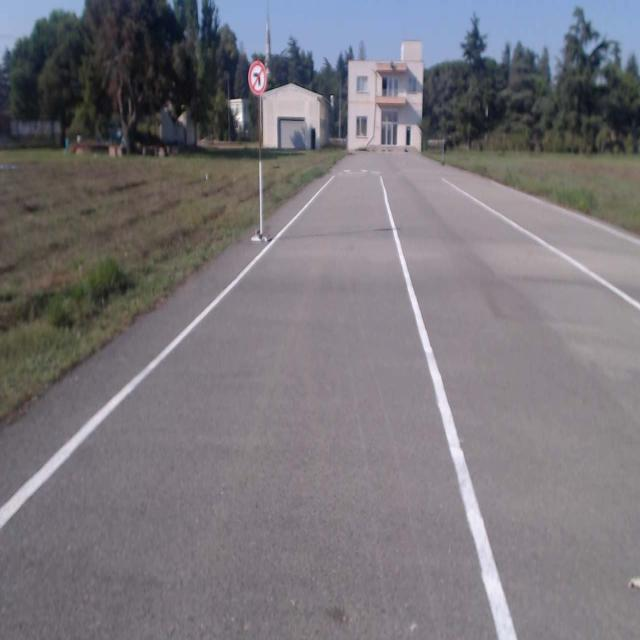soladonulmez: (248, 61, 266, 95)
